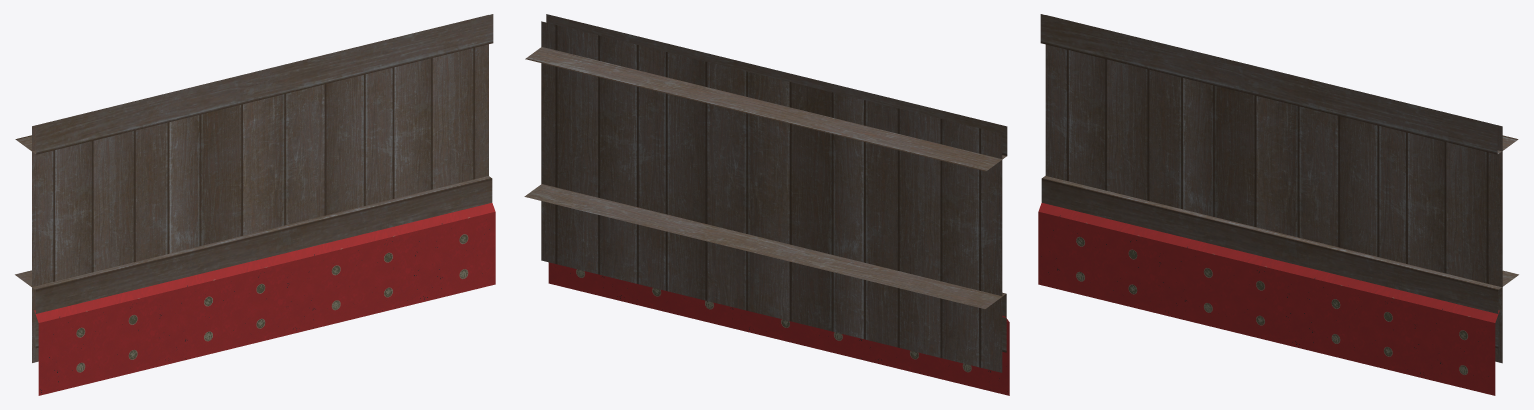
File: Ob_BuildingBaseWall_RC.fbx
The picture shows the model from 3 angles, left to right: view 1: azimuth 30°, elevation 25°; view 2: azimuth 150°, elevation 25°; view 3: azimuth 330°, elevation 25°; orthographic projection.
Parts seen in each view (by area): view 1: Ob_BuildingBaseWall_RC; view 2: Ob_BuildingBaseWall_RC; view 3: Ob_BuildingBaseWall_RC.
Boxes of the visible parts, x1,y1,x2,y2 form: Ob_BuildingBaseWall_RC: (15,14,495,395); Ob_BuildingBaseWall_RC: (524,14,1009,395); Ob_BuildingBaseWall_RC: (1038,14,1518,395).
Size of the model in its own units: 1224 by 687 by 112.
